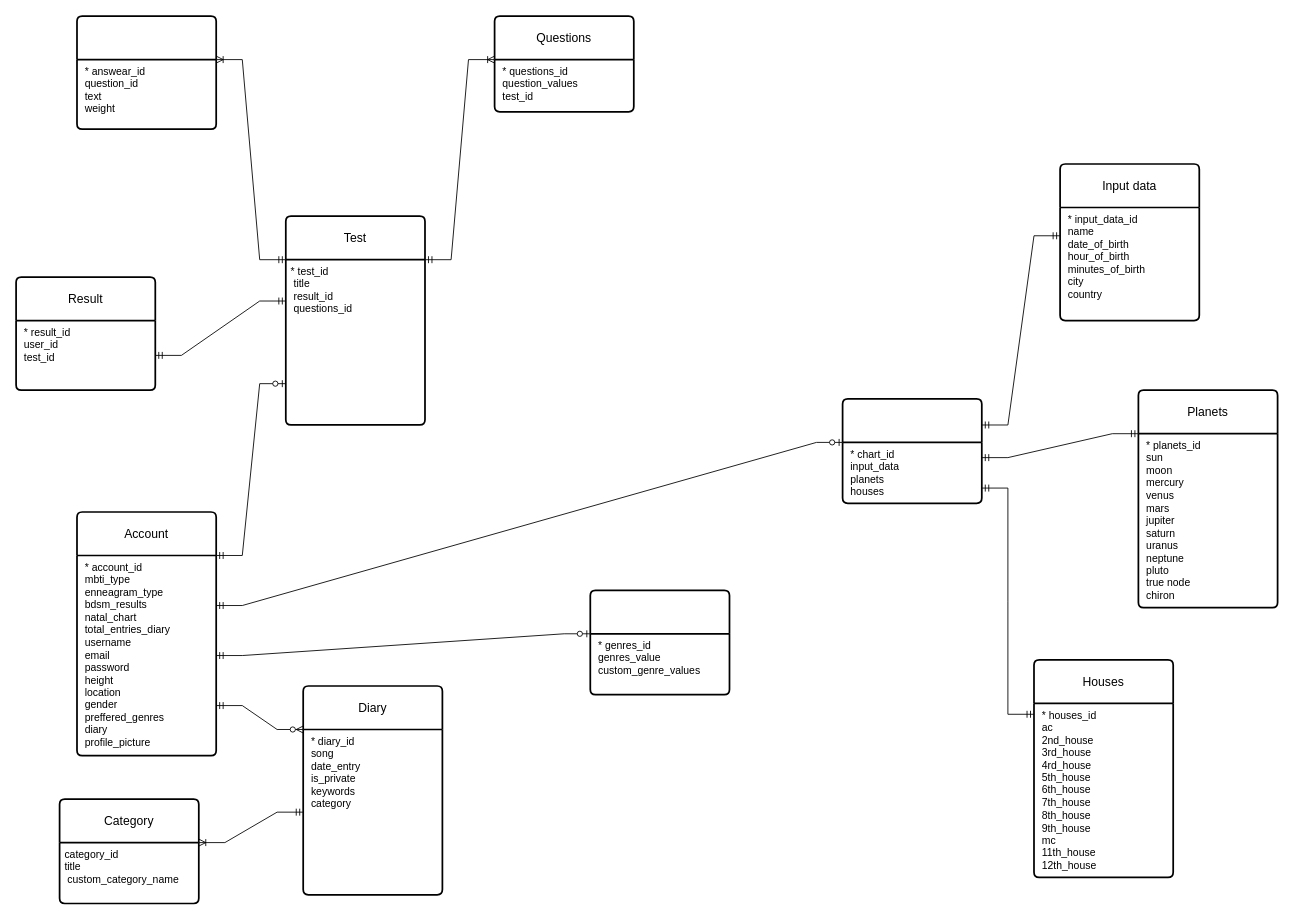
The diagram is 1293 pixels wide and 919 high, and some of its shapes have lost their labels. The box of each missing label's shape, as (x1, y1, x2, y2) in pixels:
Answears: (76, 15, 217, 130)
Natal Chart: (841, 398, 982, 504)
Preffered genres: (589, 589, 730, 695)
